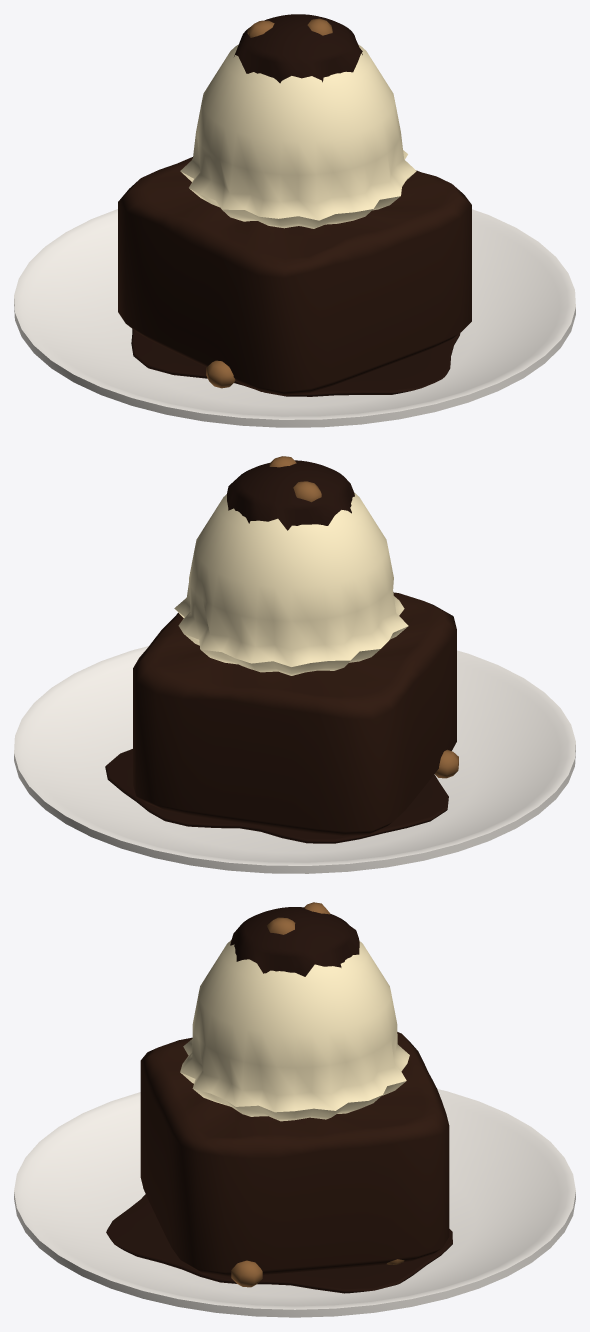
The model's file is brownie-sorvete.glb.
3 renders of one model, top to bottom at view 1: azimuth 30°, elevation 25°; view 2: azimuth 150°, elevation 25°; view 3: azimuth 270°, elevation 25°, orthographic.
Parts seen in each view (by area): view 1: brownie-sorvete; view 2: brownie-sorvete; view 3: brownie-sorvete.
Part boxes in pixels (left/top/right/bottom): brownie-sorvete: left=14, top=14, right=575, bottom=427; brownie-sorvete: left=14, top=456, right=575, bottom=873; brownie-sorvete: left=14, top=902, right=575, bottom=1317.
Size of the model in its own units: 0.14 by 0.09 by 0.14.
